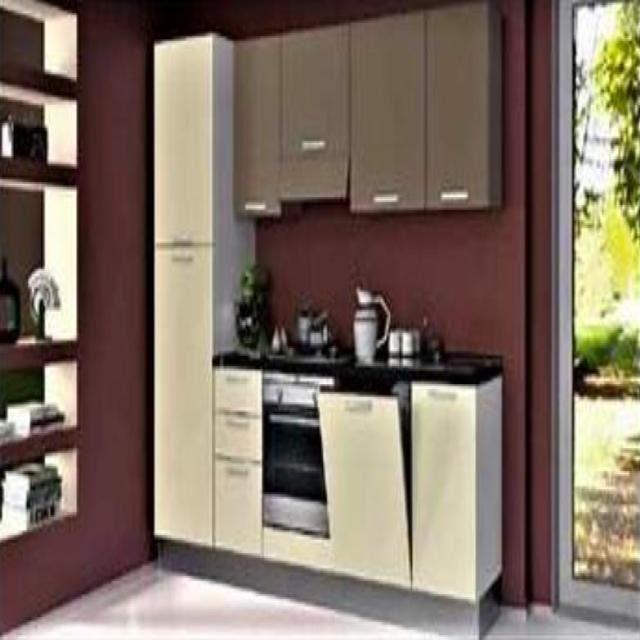dishwasher: (317, 379, 410, 589)
